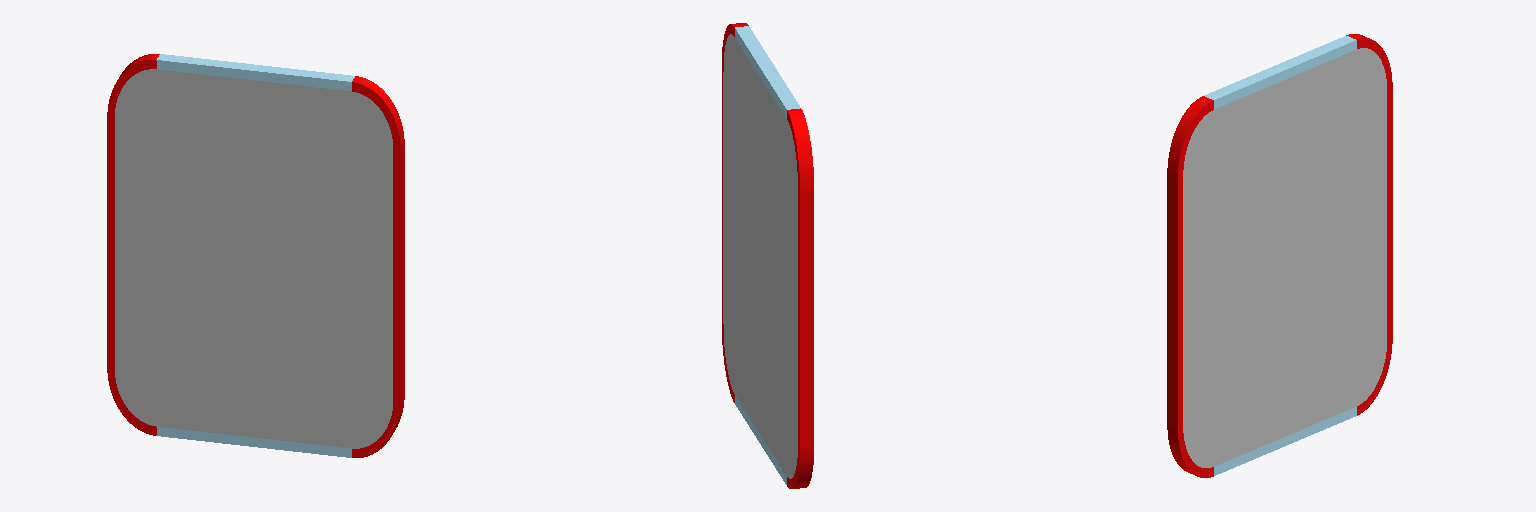
Rendered from switchR1.obj.
3 renders of one model, left to right at view 1: azimuth 30°, elevation 25°; view 2: azimuth 150°, elevation 25°; view 3: azimuth 270°, elevation 25°, orthographic.
Visible parts, largest first — view 1: switchY1_Куб.202; view 2: switchY1_Куб.202; view 3: switchY1_Куб.202.
Part boxes in pixels (left/top/right/bottom): switchY1_Куб.202: left=107, top=54, right=404, bottom=457; switchY1_Куб.202: left=722, top=23, right=813, bottom=488; switchY1_Куб.202: left=1167, top=34, right=1392, bottom=477.
Size of the model in its own units: 0.1071 by 0.1973 by 0.1071.